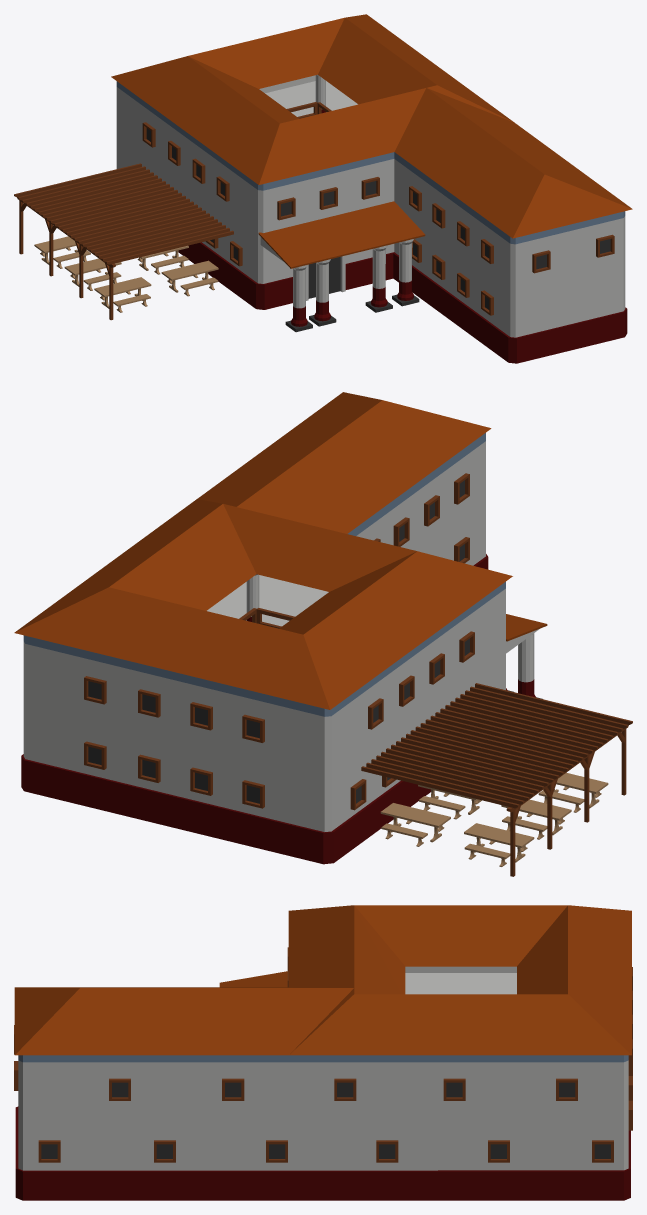
The model's file is Wirtshaus 1.fbx.
3 views of the same model, one above another, from view 1: azimuth 30°, elevation 25°; view 2: azimuth 150°, elevation 25°; view 3: azimuth 270°, elevation 25° (orthographic). The views are drawn at different scales.
Visible parts, largest first — view 1: Wirtshaus; view 2: Wirtshaus; view 3: Wirtshaus.
Part boxes in pixels (bbox=[...]): Wirtshaus: bbox=[14, 14, 632, 363]; Wirtshaus: bbox=[14, 392, 632, 876]; Wirtshaus: bbox=[14, 905, 632, 1200].
Size of the model in its own units: 2197 by 934 by 2672.
